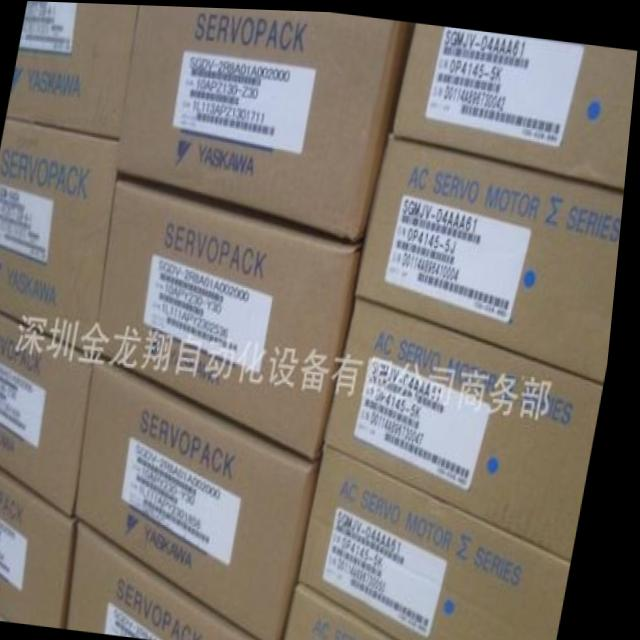box: (99, 167, 367, 456), (83, 348, 329, 640), (333, 295, 609, 555), (117, 4, 411, 240), (361, 129, 627, 380), (305, 442, 580, 640), (393, 21, 638, 185), (0, 116, 120, 350), (78, 516, 275, 640), (0, 306, 99, 514), (8, 1, 138, 139), (0, 458, 87, 626), (296, 579, 409, 640)
